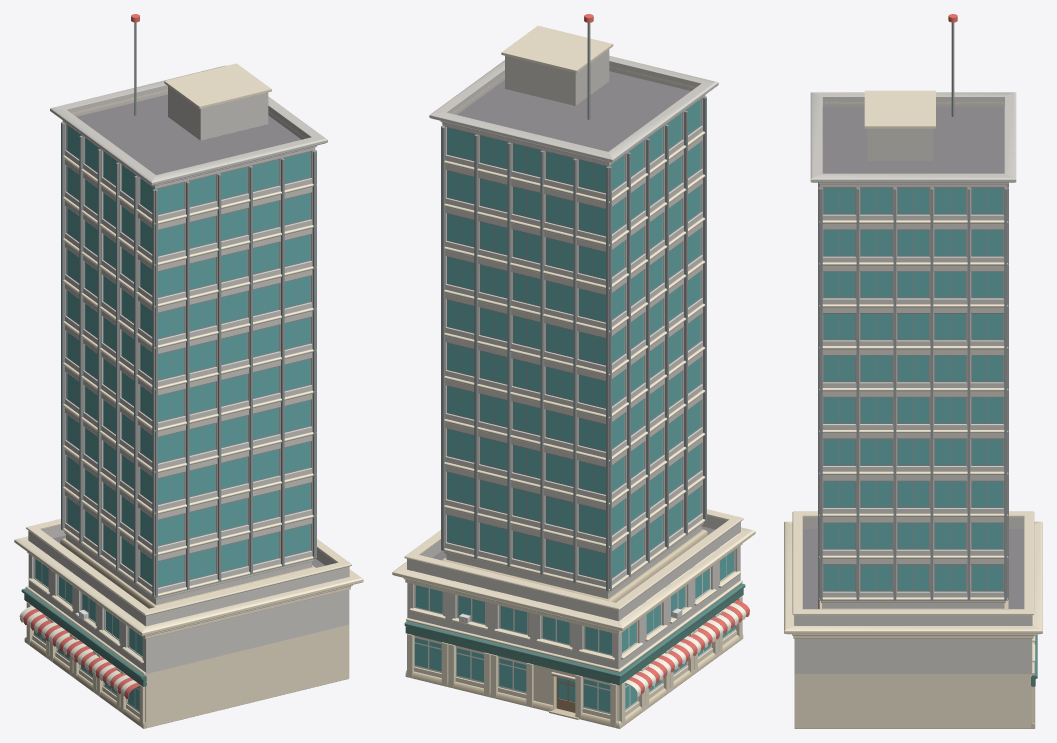
Rendered from glass_tower.glb.
3 views of the same model, side by side, from view 1: azimuth 30°, elevation 25°; view 2: azimuth 150°, elevation 25°; view 3: azimuth 270°, elevation 25° (orthographic). The views are drawn at different scales.
Parts seen in each view (by area): view 1: tower, tower trim, shell, trim, tower frames, props, awnings, frames; view 2: tower, tower trim, trim, shell, tower frames, props, awnings, frames; view 3: tower, tower trim, shell, trim, tower frames, props.
Boxes of the visible parts, left/top/right/bottom form: tower: left=64, top=94, right=313, bottom=599; tower trim: left=50, top=65, right=327, bottom=608; shell: left=28, top=535, right=349, bottom=727; trim: left=14, top=519, right=363, bottom=728; tower frames: left=66, top=124, right=311, bottom=587; props: left=79, top=14, right=271, bottom=619; awnings: left=19, top=606, right=139, bottom=699; frames: left=33, top=558, right=142, bottom=712; tower: left=444, top=71, right=703, bottom=593; tower trim: left=429, top=55, right=718, bottom=602; trim: left=392, top=509, right=755, bottom=728; shell: left=407, top=526, right=740, bottom=721; tower frames: left=447, top=98, right=701, bottom=580; props: left=459, top=14, right=682, bottom=712; awnings: left=625, top=600, right=749, bottom=696; frames: left=414, top=550, right=735, bottom=714; tower: left=821, top=106, right=1005, bottom=602; tower trim: left=810, top=92, right=1016, bottom=608; shell: left=794, top=529, right=1032, bottom=728; trim: left=784, top=511, right=1042, bottom=728; tower frames: left=823, top=187, right=1003, bottom=591; props: left=864, top=14, right=1036, bottom=636.
Size of the model in its own units: 20 by 54.02 by 19.6.
